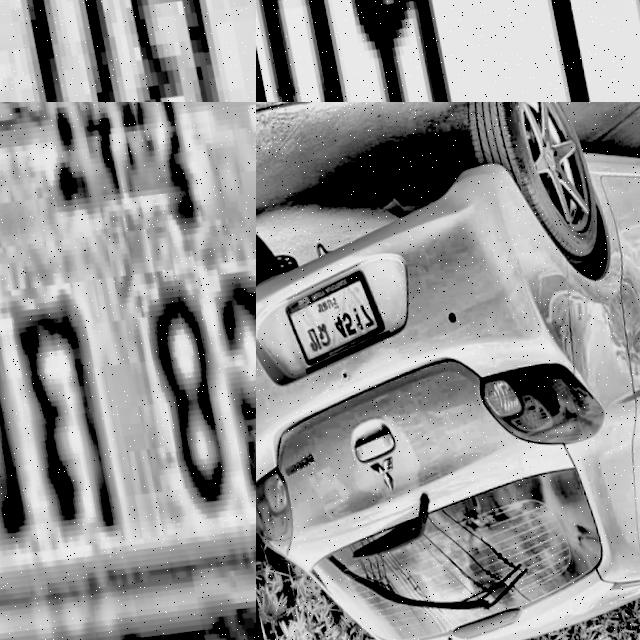license-plate: (0, 102, 256, 640), (256, 0, 640, 102), (0, 0, 256, 102), (274, 266, 386, 371)
